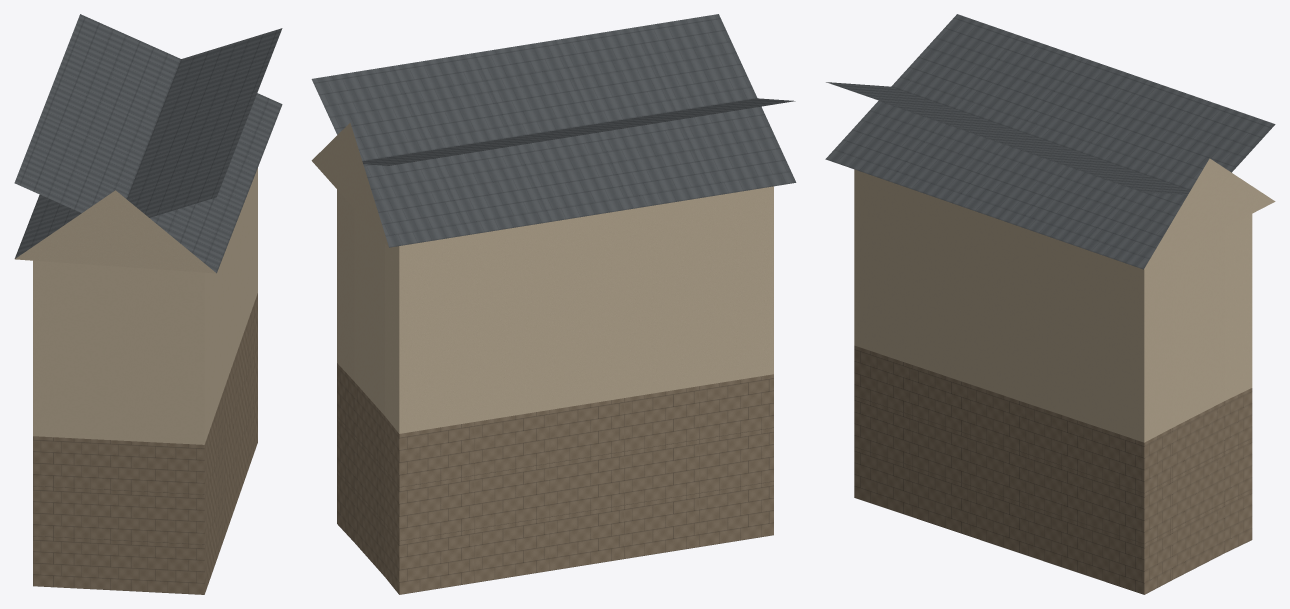
The model's file is bld_c24_-37_578.gltf.
3 renders of one model, left to right at view 1: azimuth 30°, elevation 25°; view 2: azimuth 150°, elevation 25°; view 3: azimuth 270°, elevation 25°, orthographic. The views are drawn at different scales.
Visible parts, largest first — view 1: bld_c24_-37_578; view 2: bld_c24_-37_578; view 3: bld_c24_-37_578.
Boxes of the visible parts, x1=… form: bld_c24_-37_578: x1=14, y1=14, x2=282, y2=594; bld_c24_-37_578: x1=311, y1=14, x2=796, y2=594; bld_c24_-37_578: x1=825, y1=14, x2=1275, y2=594.
Size of the model in its own units: 12.81 by 13.89 by 13.67.
4 materials, 4 textured.
